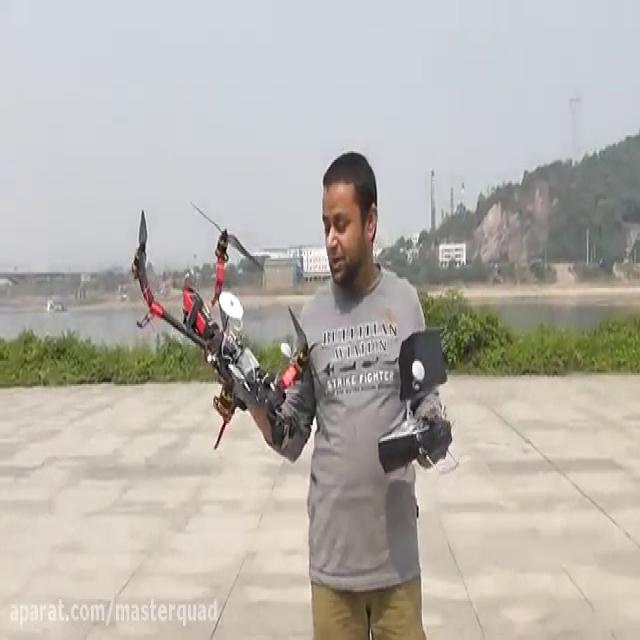drone: (125, 194, 321, 450)
